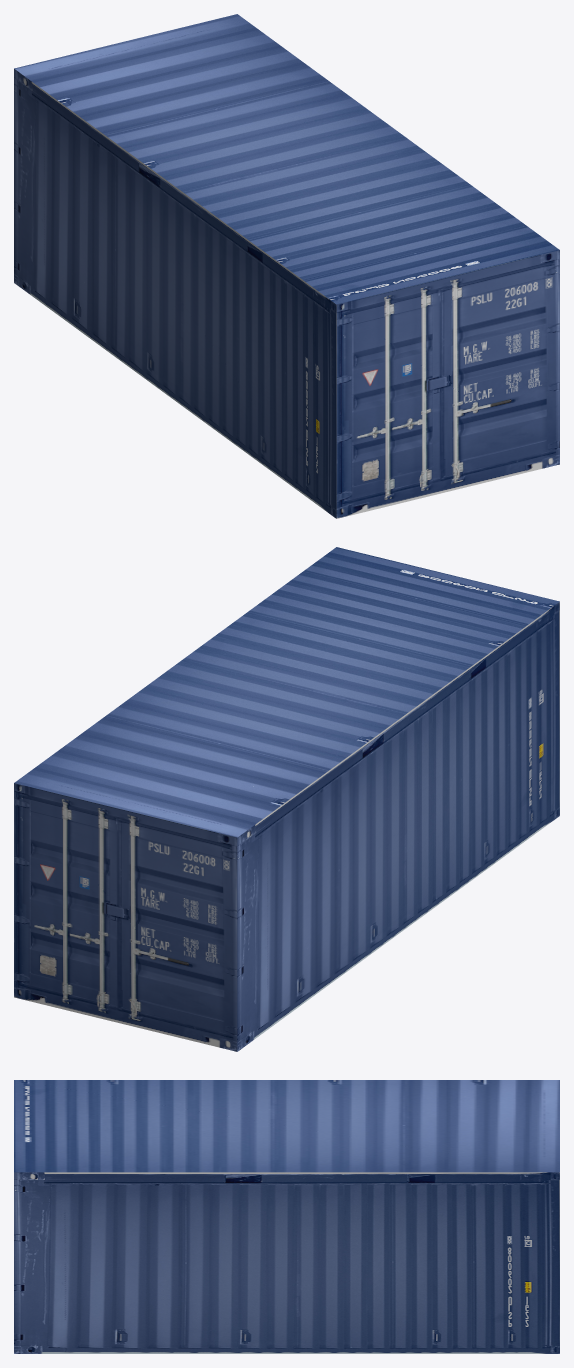
The model's file is modular-containers-and-barrells-pack-game-ready-container-001-321.glb.
3 renders of one model, top to bottom at view 1: azimuth 30°, elevation 25°; view 2: azimuth 150°, elevation 25°; view 3: azimuth 270°, elevation 25°, orthographic. The views are drawn at different scales.
Parts seen in each view (by area): view 1: container.001_321; view 2: container.001_321; view 3: container.001_321.
Part boxes in pixels (left/top/right/bottom): container.001_321: left=14, top=14, right=559, bottom=518; container.001_321: left=14, top=547, right=559, bottom=1051; container.001_321: left=14, top=1080, right=559, bottom=1353.
Bounding box in the file's own units: 2.4 × 2.2 × 6.
1 material, 1 textured.
